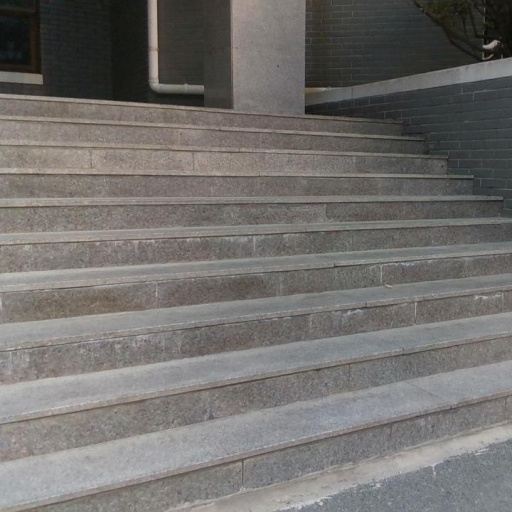Stairs: (0, 96, 512, 512)
